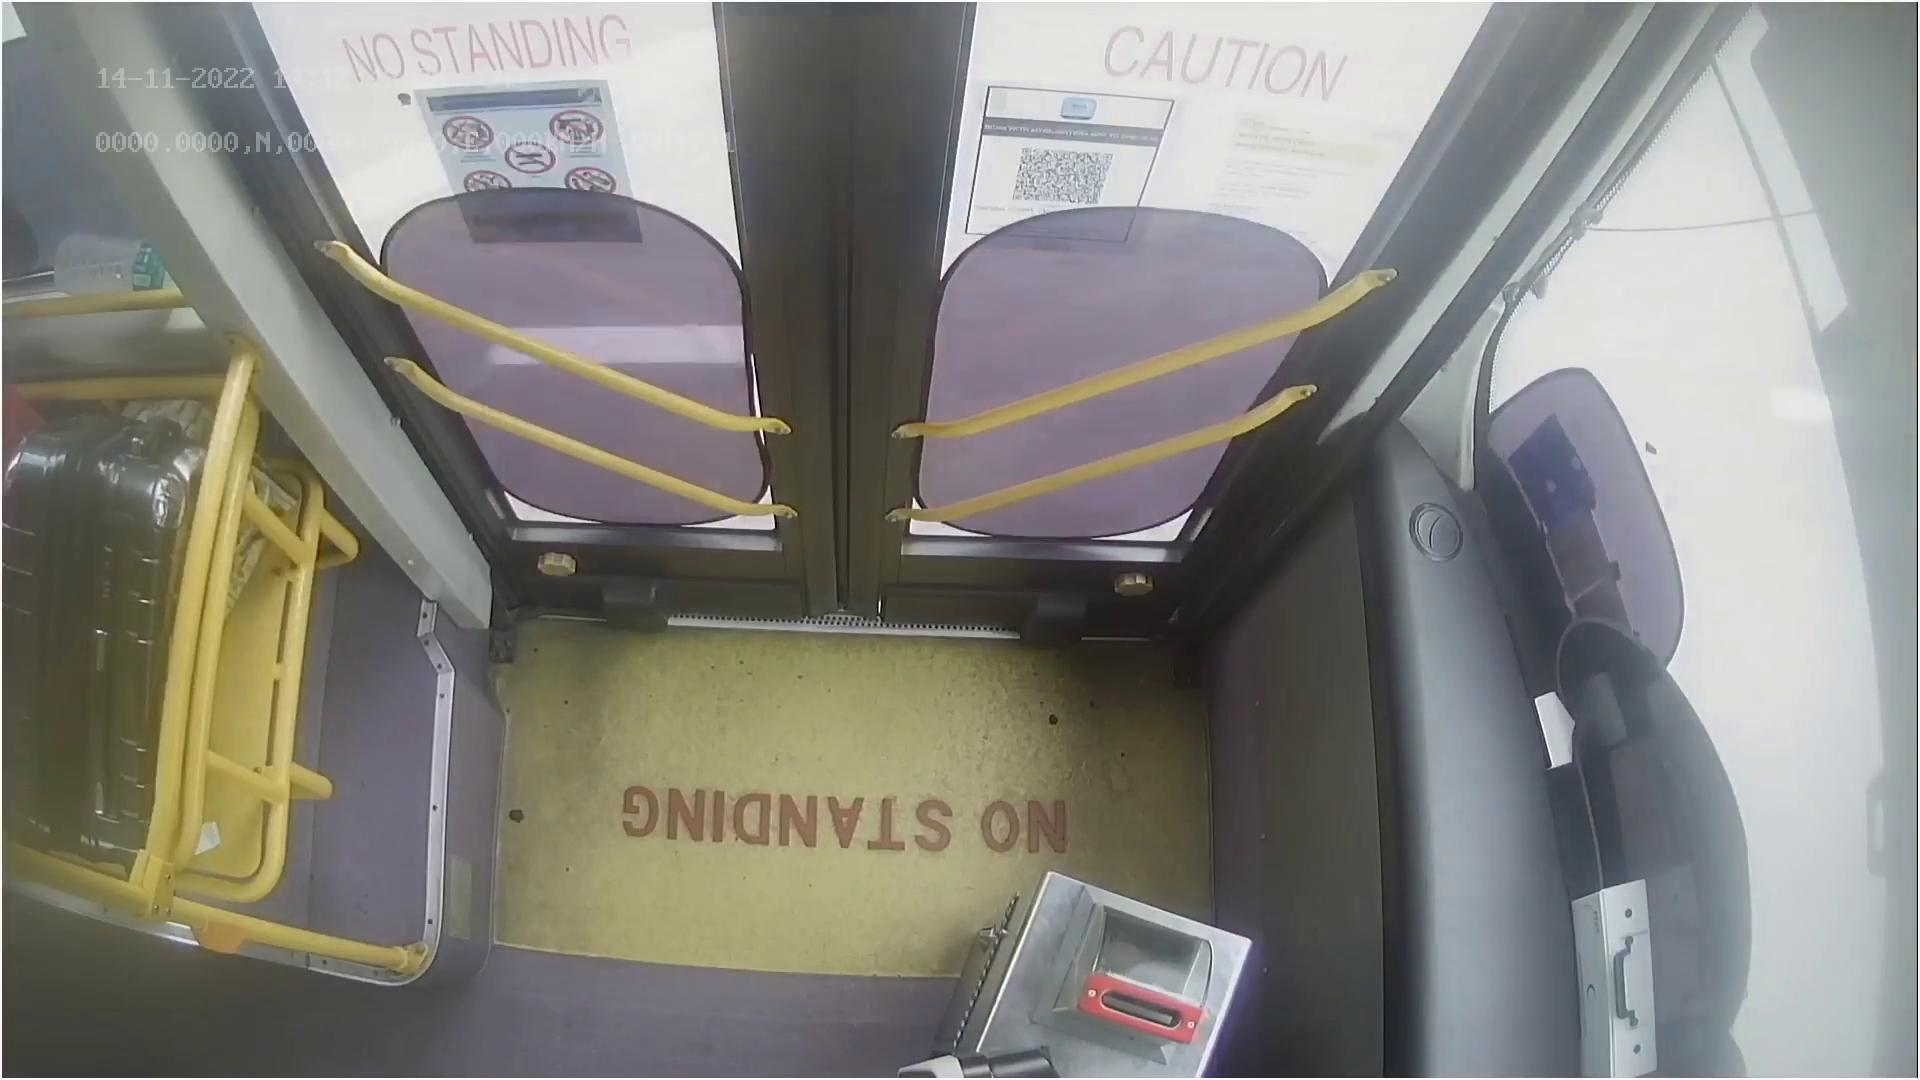close: (284, 0, 1429, 178)
